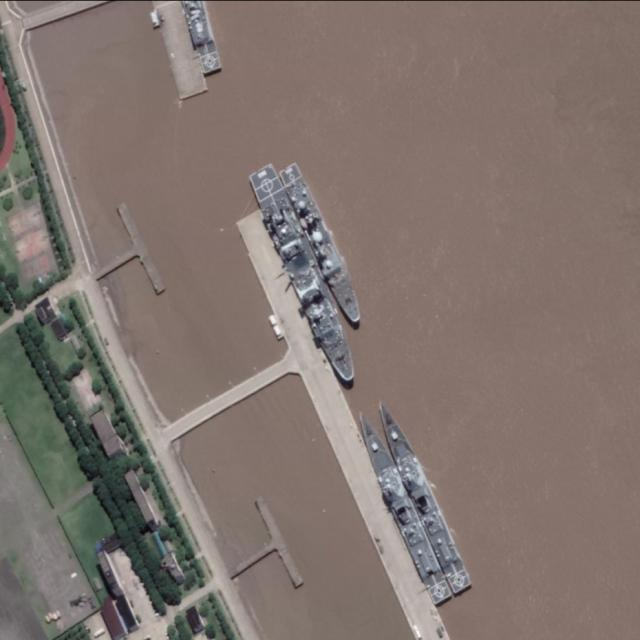Auxiliary Ships: (348, 406, 454, 607), (369, 395, 475, 596)
Other Warship: (248, 162, 367, 396), (277, 159, 369, 330)
